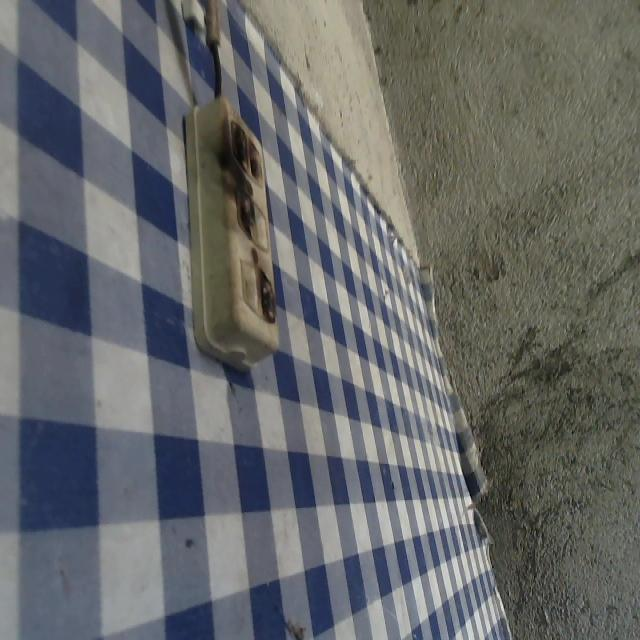-: (227, 112, 266, 188), (254, 264, 277, 324), (235, 189, 257, 235)
